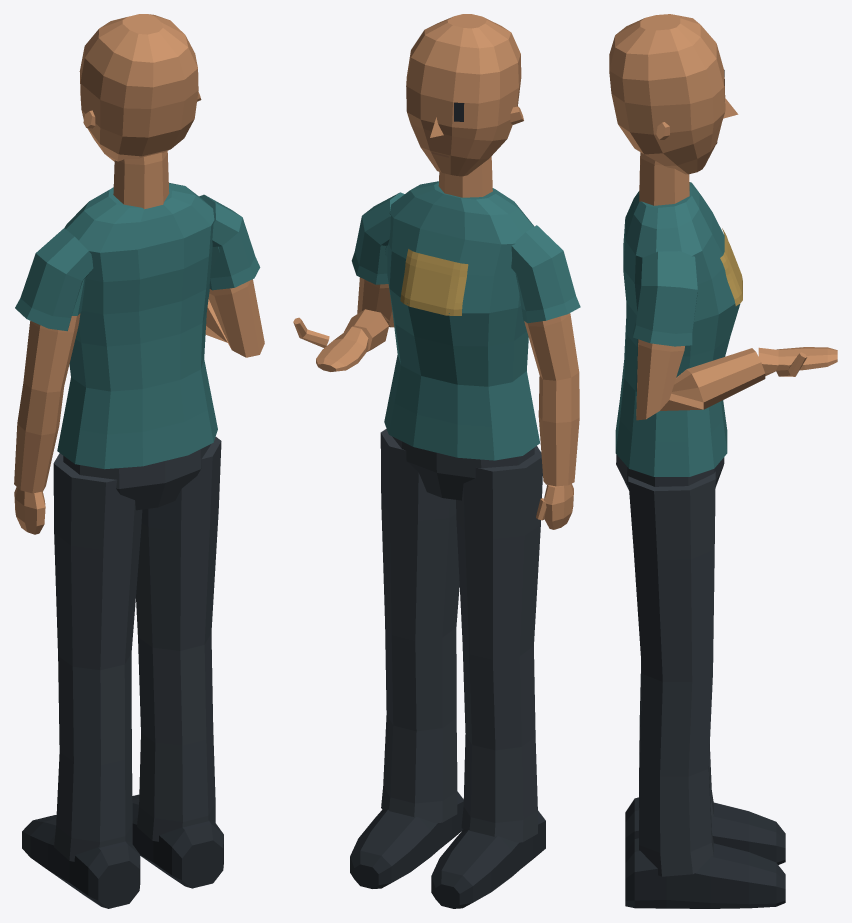
The model's file is lwf_attendee_female_food_hold_v2.glb.
3 renders of one model, left to right at view 1: azimuth 30°, elevation 25°; view 2: azimuth 150°, elevation 25°; view 3: azimuth 270°, elevation 25°, orthographic. The views are drawn at different scales.
Parts seen in each view (by area): view 1: Attendee_female_food_hold_v6; view 2: Attendee_female_food_hold_v6; view 3: Attendee_female_food_hold_v6.
Part boxes in pixels (x1,y1,x2,y2): Attendee_female_food_hold_v6: (14,14,264,908); Attendee_female_food_hold_v6: (293,14,580,908); Attendee_female_food_hold_v6: (609,14,837,908).
Bounding box in the file's own units: 0.4653 × 1.66 × 0.3988.
Materials: 1 (1 with a texture image).
